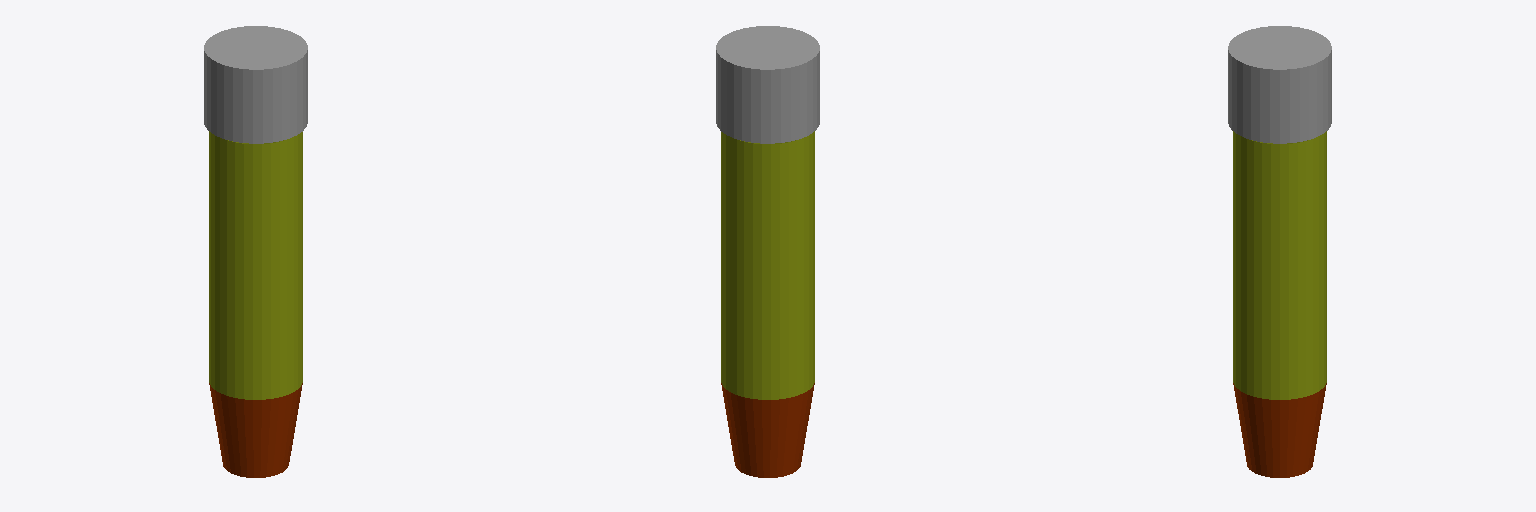
The model's file is epipen.obj.
3 renders of one model, left to right at view 1: azimuth 30°, elevation 25°; view 2: azimuth 150°, elevation 25°; view 3: azimuth 270°, elevation 25°, orthographic.
Parts seen in each view (by area): view 1: Cylinder; view 2: Cylinder; view 3: Cylinder.
Part boxes in pixels (left/top/right/bottom): Cylinder: left=204, top=26, right=307, bottom=477; Cylinder: left=716, top=26, right=819, bottom=477; Cylinder: left=1228, top=26, right=1331, bottom=477.
Size of the model in its own units: 0.8522 by 3.76 by 0.8522.